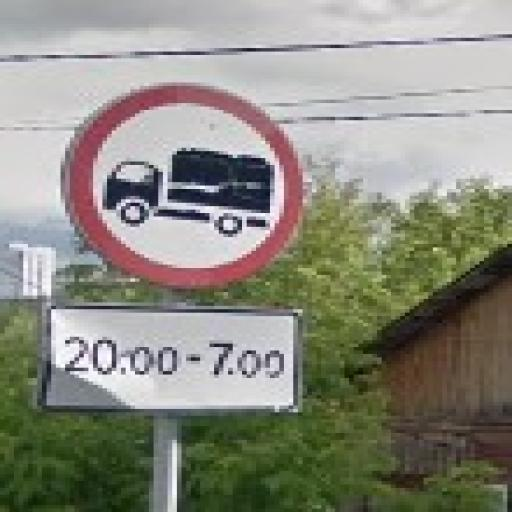traffic_sign: (62, 84, 308, 290)
